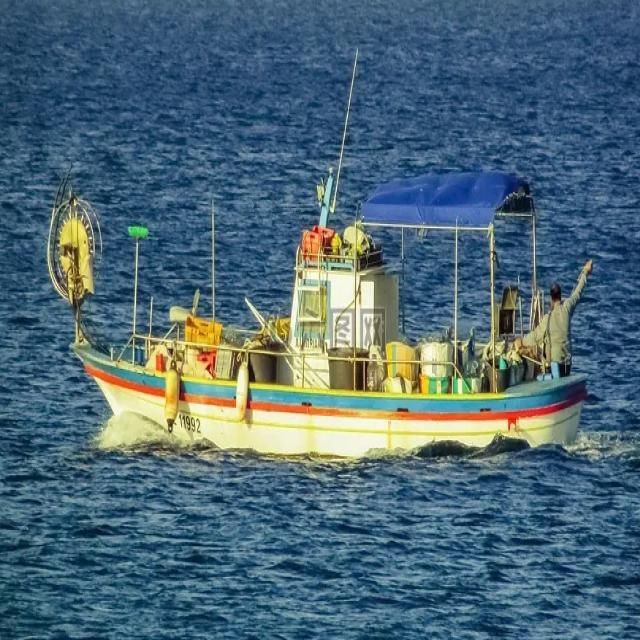fishing boat: (48, 152, 586, 455)
